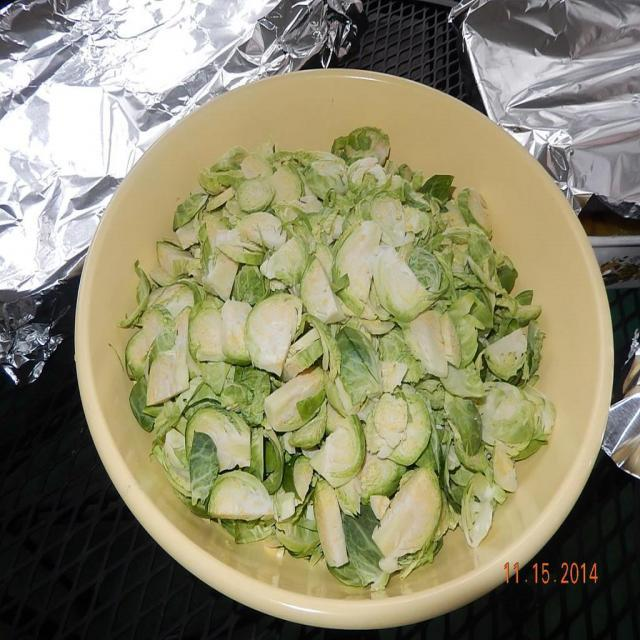Zucchini: (117, 126, 557, 591)
